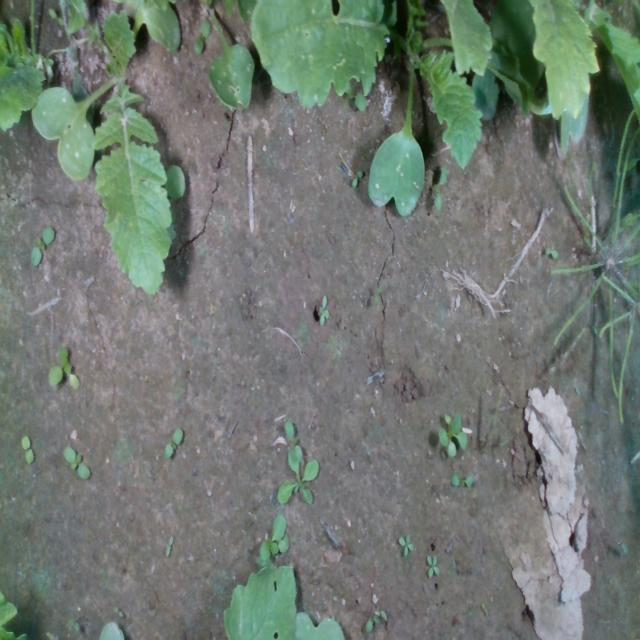weed: (29, 225, 55, 267), (62, 445, 90, 479), (163, 427, 183, 457), (397, 530, 414, 556), (20, 434, 34, 464), (317, 293, 329, 327), (425, 553, 439, 579), (449, 472, 474, 486), (164, 533, 174, 559), (350, 168, 362, 188), (544, 245, 558, 259), (112, 605, 124, 617)
